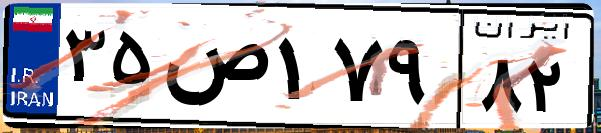1: (270, 28, 330, 110)
2: (525, 38, 570, 115)
3: (57, 26, 110, 100)
5: (110, 28, 158, 98)
7: (330, 28, 385, 110)
8: (475, 38, 525, 113)
9: (385, 28, 445, 110)
ص: (158, 20, 270, 120)
